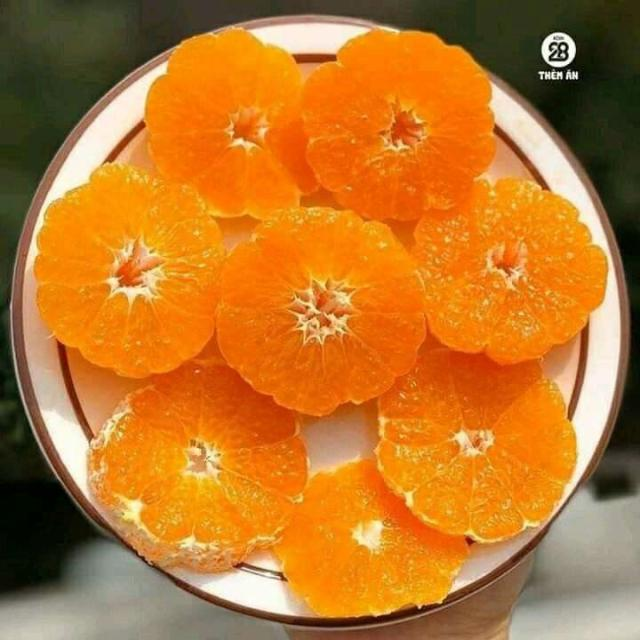orange: (88, 360, 307, 571), (217, 208, 424, 415), (377, 337, 575, 542), (35, 165, 224, 377), (303, 30, 495, 219), (414, 179, 607, 363), (145, 29, 316, 218), (276, 461, 468, 616)
